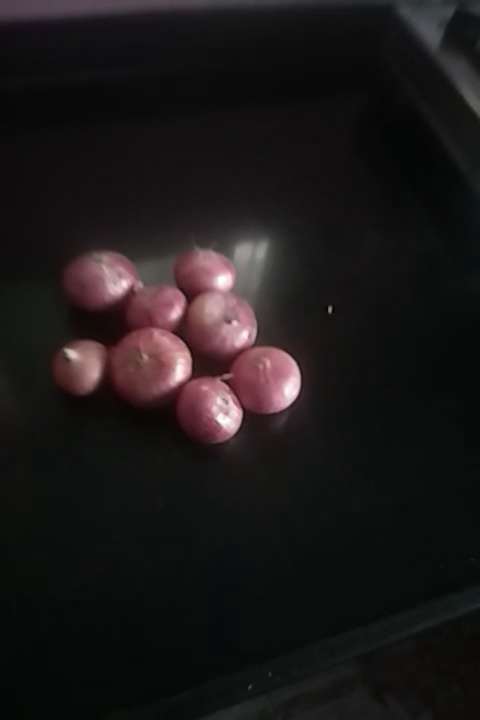onion: (100, 329, 196, 409), (183, 293, 262, 363), (234, 344, 304, 416), (179, 377, 252, 445), (51, 332, 111, 408), (60, 248, 130, 313), (172, 242, 247, 293), (119, 277, 189, 329)
